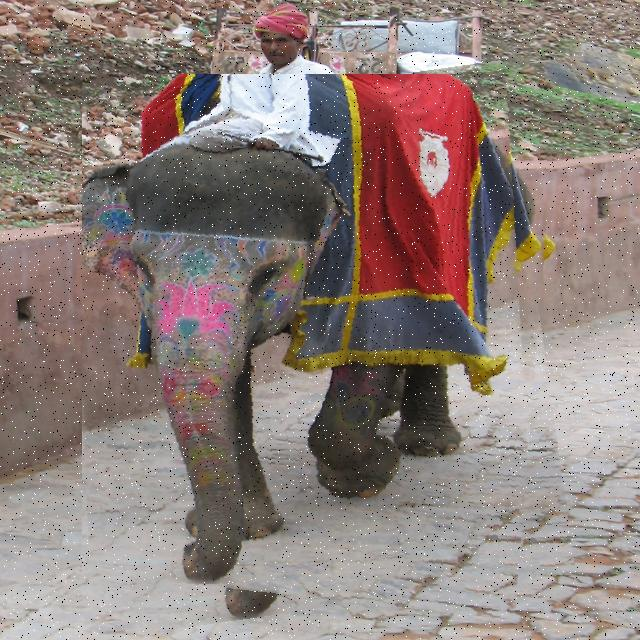elephant: (82, 74, 559, 620)
